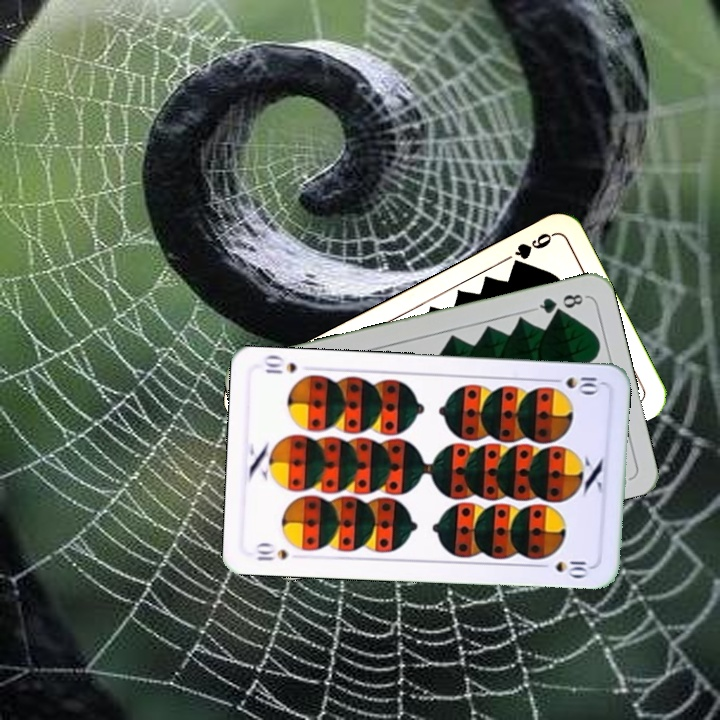G8: (530, 290, 589, 317)
G9: (507, 229, 557, 271)
S10: (545, 373, 604, 396), (252, 540, 292, 563)
